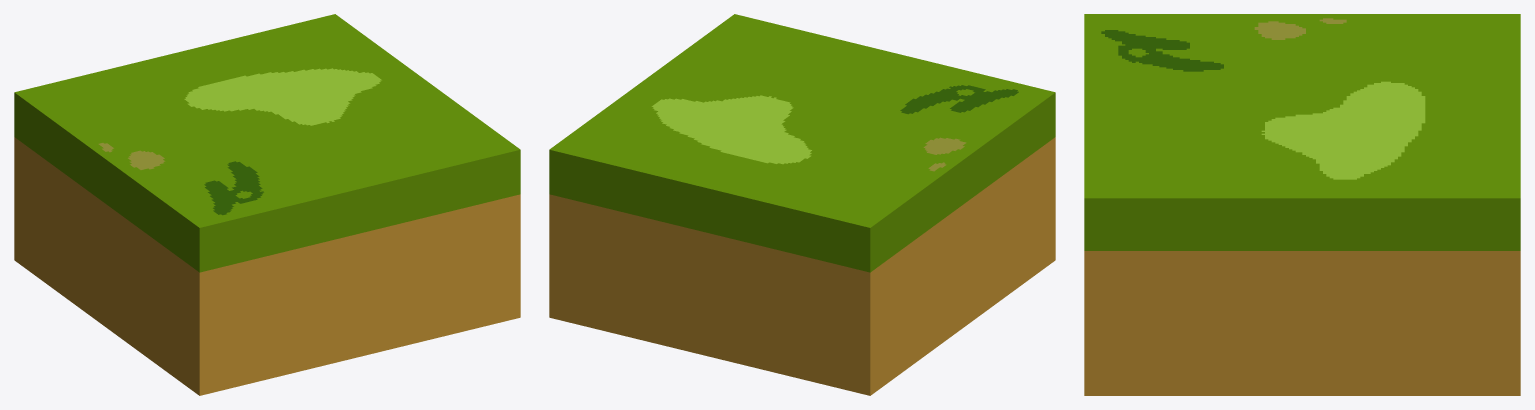
3 renders of one model, left to right at view 1: azimuth 30°, elevation 25°; view 2: azimuth 150°, elevation 25°; view 3: azimuth 270°, elevation 25°, orthographic. The views are drawn at different scales.
Visible parts, largest first — view 1: 11G; view 2: 11G; view 3: 11G.
Part boxes in pixels (bbox=[...]): 11G: bbox=[14, 14, 520, 395]; 11G: bbox=[549, 14, 1055, 395]; 11G: bbox=[1084, 14, 1520, 395].
Bounding box in the file's own units: 12.8 × 6.4 × 12.8.
1 material, 1 textured.
